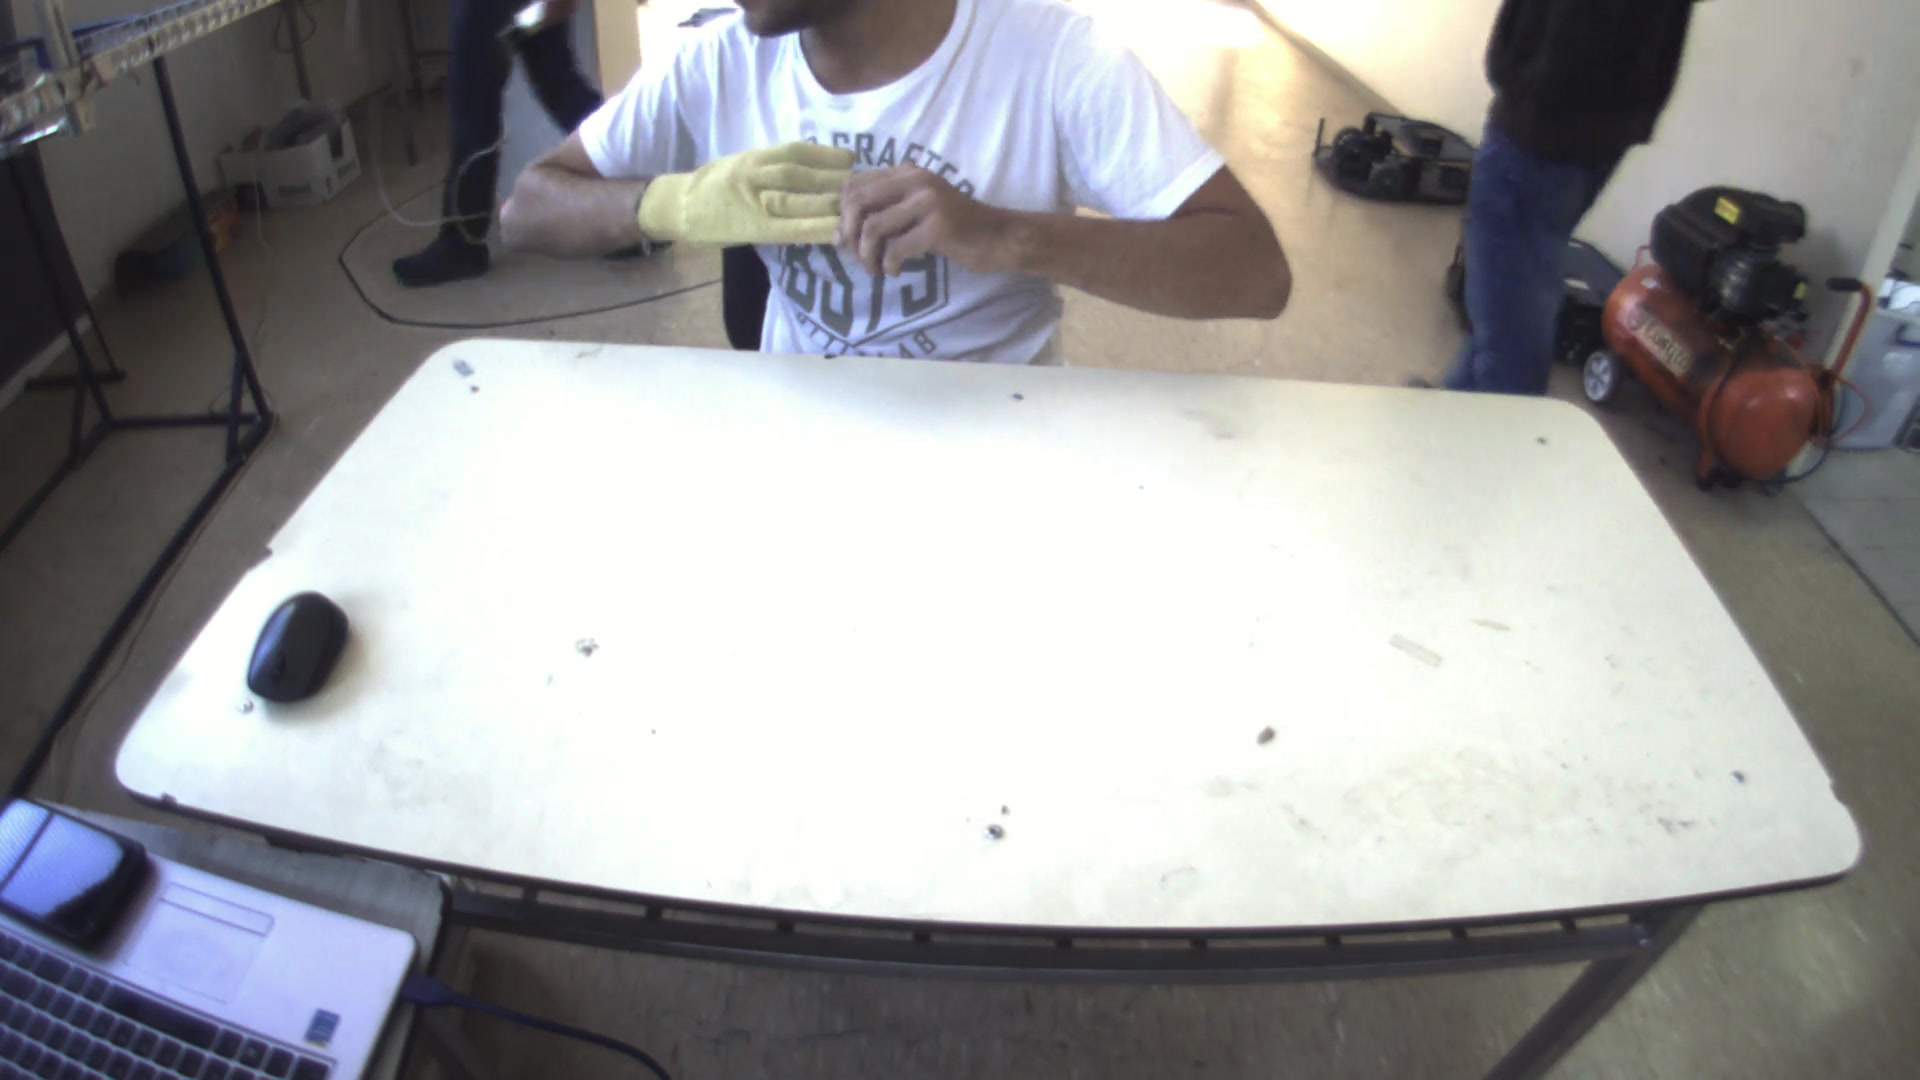hand: (629, 123, 858, 251), (837, 152, 998, 280)
